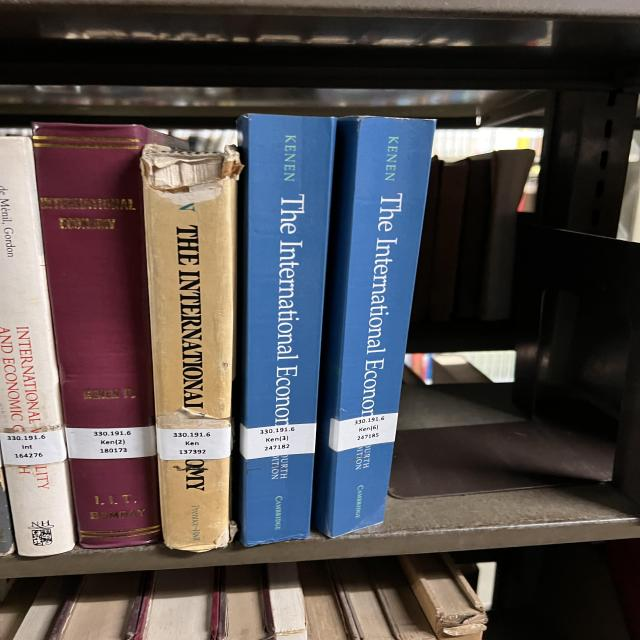Book: (32, 122, 187, 549), (313, 116, 435, 536), (140, 144, 243, 552), (238, 114, 335, 546), (0, 136, 75, 556)
Label: (65, 426, 157, 459), (328, 412, 398, 451), (240, 424, 317, 459), (157, 426, 232, 460), (0, 430, 67, 465)
